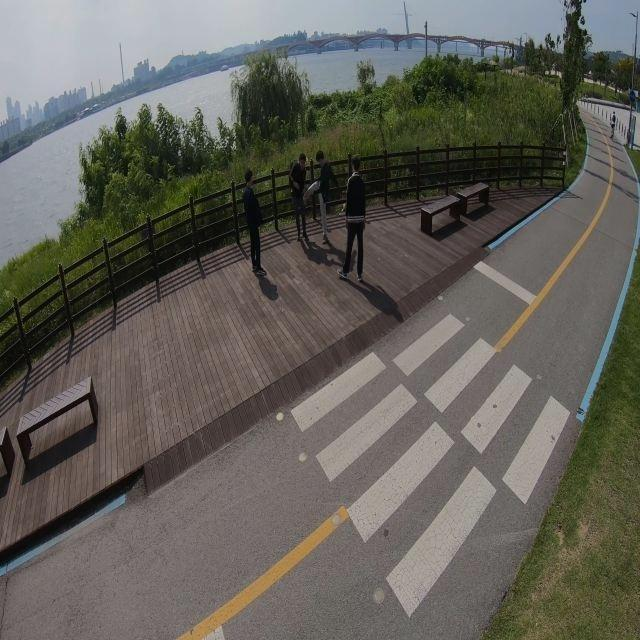fight: (289, 149, 331, 242)
non-fight: (336, 154, 366, 282), (242, 167, 268, 277)
